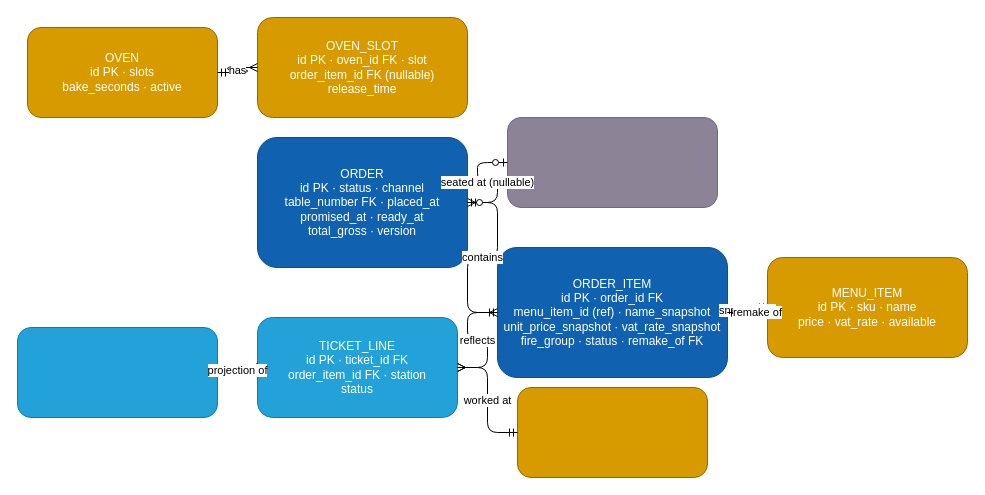
The diagram is 985 pixels wide and 495 high, and some of its shapes have lost their labels. Here are the shapes that lost their labels. From the top down, the centre of each, then its label:
pixel 612 162: TABLE number PK · seats current_order_id FK (nullable)
pixel 117 372: KITCHEN_TICKET id PK · order_id FK status · created_at
pixel 612 432: STATION id PK · capacity seconds_per_item
